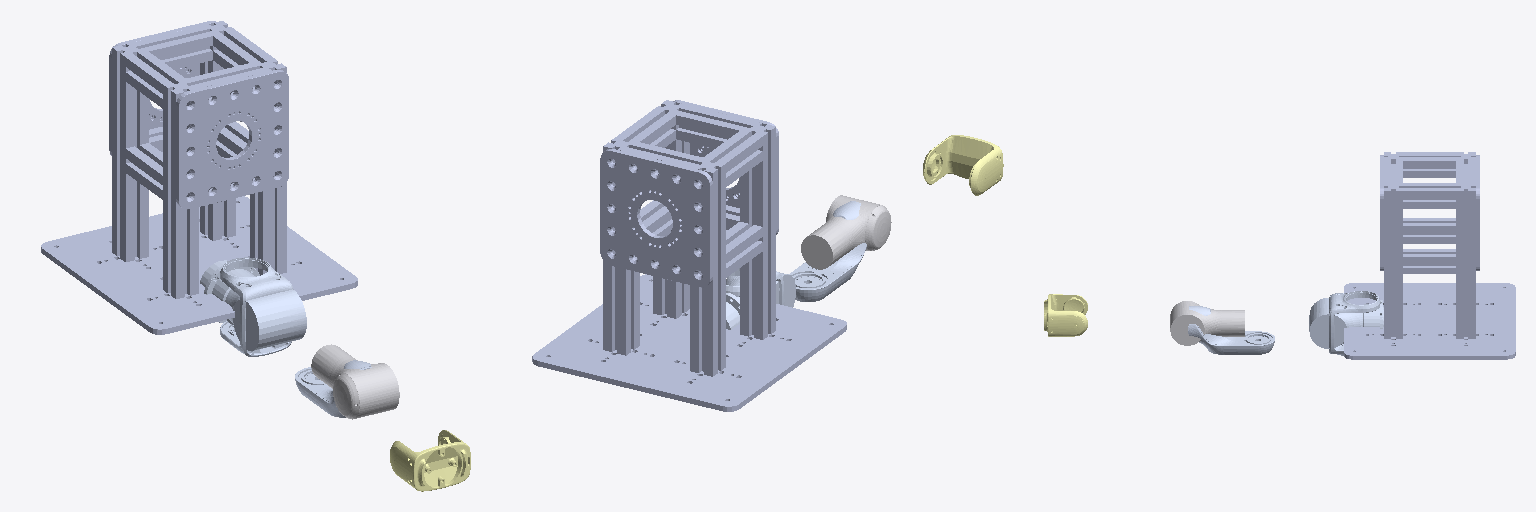
robot.urdf — taihu_arm_0430:
<?xml version="1.0" encoding="utf-8"?>
<!-- This URDF was automatically created by SolidWorks to URDF Exporter! Originally created by Stephen Brawner (brawner@gmail.com) 
     Commit Version: 1.6.0-4-g7f85cfe  Build Version: 1.6.7995.38578
     For more information, please see http://wiki.ros.org/sw_urdf_exporter -->
<robot
  name="taihu_arm_0430">
  <link
    name="base_link">
    <inertial>
      <origin
        xyz="-1.796E-05 6.0012E-06 -0.62307"
        rpy="0 0 0" />
      <mass
        value="8.6788" />
      <inertia
        ixx="0.27993"
        ixy="4.8177E-18"
        ixz="4.8851E-15"
        iyy="0.28183"
        iyz="-1.7321E-14"
        izz="0.043415" />
    </inertial>
    <visual>
      <origin
        xyz="0 0 0"
        rpy="0 0 0" />
      <geometry>
        <mesh
          filename="meshes/base_link.STL" />
      </geometry>
      <material
        name="">
        <color
          rgba="0.79216 0.81961 0.93333 1" />
      </material>
    </visual>
    <collision>
      <origin
        xyz="0 0 0"
        rpy="0 0 0" />
      <geometry>
        <mesh
          filename="meshes/base_link.STL" />
      </geometry>
    </collision>
  </link>




  <link
    name="right-link_arm_base">
    <inertial>
      <origin
        xyz="-4.097E-06 2.2217E-05 0.010632"
        rpy="0 0 0" />
      <mass
        value="1.8275" />
      <inertia
        ixx="0.00066436"
        ixy="5.7569E-08"
        ixz="-8.9382E-08"
        iyy="0.00066638"
        iyz="6.6242E-07"
        izz="0.00074477" />
    </inertial>
    <visual>
      <origin
        xyz="0 0 0"
        rpy="0 0 0" />
      <geometry>
        <mesh
          filename="meshes/right-link_arm_base.STL" />
      </geometry>
      <material
        name="">
        <color
          rgba="0.86667 0.9098 1 1" />
      </material>
    </visual>
    <collision>
      <origin
        xyz="0 0 0"
        rpy="0 0 0" />
      <geometry>
        <mesh
          filename="meshes/right-link_arm_base.STL" />
      </geometry>
    </collision>
  </link>
  <joint
    name="right-joint_arm_base"
    type="fixed">
    <origin
      xyz="0 -0.108 0"
      rpy="1.5708 0 0" />
    <parent
      link="base_link" />
    <child
      link="right-link_arm_base" />
    <axis
      xyz="0 0 0" />
  </joint>
  <link
    name="right-link_arm_1">
    <inertial>
      <origin
        xyz="1.2607E-05 0.001194 0.0088514"
        rpy="0 0 0" />
      <mass
        value="0.71111" />
      <inertia
        ixx="0.00089531"
        ixy="-4.0145E-07"
        ixz="2.0276E-07"
        iyy="0.00095129"
        iyz="-9.0856E-05"
        izz="0.00077837" />
    </inertial>
    <visual>
      <origin
        xyz="0 0 0"
        rpy="0 0 0" />
      <geometry>
        <mesh
          filename="meshes/right-link_arm_1.STL" />
      </geometry>
      <material
        name="">
        <color
          rgba="0.86667 0.9098 1 1" />
      </material>
    </visual>
    <collision>
      <origin
        xyz="0 0 0"
        rpy="0 0 0" />
      <geometry>
        <mesh
          filename="meshes/right-link_arm_1.STL" />
      </geometry>
    </collision>
  </link>
  <joint
    name="right-joint_arm_1"
    type="revolute">
    <origin
      xyz="0 0 0.128"
      rpy="3.1416 0 1.5708" />
    <parent
      link="right-link_arm_base" />
    <child
      link="right-link_arm_1" />
    <axis
      xyz="0 0 1" />
    <limit
      lower="-3.1"
      upper="3.1"
      effort="100"
      velocity="1" />
  </joint>
  <link
    name="right-link_arm_2">
    <inertial>
      <origin
        xyz="1.2945E-05 0.088857 -0.024165"
        rpy="0 0 0" />
      <mass
        value="2.2852" />
      <inertia
        ixx="0.0021126"
        ixy="3.9651E-07"
        ixz="7.5798E-08"
        iyy="0.00051326"
        iyz="-0.00045294"
        izz="0.0021734" />
    </inertial>
    <visual>
      <origin
        xyz="0 0 0"
        rpy="0 0 0" />
      <geometry>
        <mesh
          filename="meshes/right-link_arm_2.STL" />
      </geometry>
      <material
        name="">
        <color
          rgba="0.86667 0.9098 1 1" />
      </material>
    </visual>
    <collision>
      <origin
        xyz="0 0 0"
        rpy="0 0 0" />
      <geometry>
        <mesh
          filename="meshes/right-link_arm_2.STL" />
      </geometry>
    </collision>
  </link>
  <joint
    name="right-joint_arm_2"
    type="revolute">
    <origin
      xyz="0 0 0"
      rpy="-1.5708 0 0" />
    <parent
      link="right-link_arm_1" />
    <child
      link="right-link_arm_2" />
    <axis
      xyz="0 0 1" />
    <limit
      lower="-2.007"
      upper="2.007"
      effort="100"
      velocity="1" />
  </joint>
  <link
    name="right-link_arm_3">
    <inertial>
      <origin
        xyz="0.00035321 0.0021391 0.036651"
        rpy="0 0 0" />
      <mass
        value="0.47387" />
      <inertia
        ixx="0.0011486"
        ixy="-4.7435E-07"
        ixz="7.8389E-07"
        iyy="0.0010776"
        iyz="-4.5978E-05"
        izz="0.00024811" />
    </inertial>
    <visual>
      <origin
        xyz="0 0 0"
        rpy="0 0 0" />
      <geometry>
        <mesh
          filename="meshes/right-link_arm_3.STL" />
      </geometry>
      <material
        name="">
        <color
          rgba="0.86667 0.9098 1 1" />
      </material>
    </visual>
    <collision>
      <origin
        xyz="0 0 0"
        rpy="0 0 0" />
      <geometry>
        <mesh
          filename="meshes/right-link_arm_3.STL" />
      </geometry>
    </collision>
  </link>
  <joint
    name="right-joint_arm_3"
    type="revolute">
    <origin
      xyz="0 0.329 0"
      rpy="1.5708 0 0" />
    <parent
      link="right-link_arm_2" />
    <child
      link="right-link_arm_3" />
    <axis
      xyz="0 0 1" />
    <limit
      lower="-3.1"
      upper="3.1"
      effort="100"
      velocity="1" />
  </joint>
  <link
    name="right-link_arm_4">
    <inertial>
      <origin
        xyz="9.9096E-06 0.094944 -0.019826"
        rpy="0 0 0" />
      <mass
        value="1.38429" />
      <inertia
        ixx="0.0014918"
        ixy="4.3233E-07"
        ixz="2.0932E-08"
        iyy="0.00034865"
        iyz="-0.00031052"
        izz="0.0014896" />
    </inertial>
    <visual>
      <origin
        xyz="0 0 0"
        rpy="0 0 0" />
      <geometry>
        <mesh
          filename="meshes/right-link_arm_4.STL" />
      </geometry>
      <material
        name="">
        <color
          rgba="0.8902 0.8902 0.91373 1" />
      </material>
    </visual>
    <collision>
      <origin
        xyz="0 0 0"
        rpy="0 0 0" />
      <geometry>
        <mesh
          filename="meshes/right-link_arm_4.STL" />
      </geometry>
    </collision>
  </link>
  <joint
    name="right-joint_arm_4"
    type="revolute">
    <origin
      xyz="0 0 0"
      rpy="-1.5708 0 0" />
    <parent
      link="right-link_arm_3" />
    <child
      link="right-link_arm_4" />
    <axis
      xyz="0 0 1" />
    <limit
      lower="-2.53"
      upper="2.05"
      effort="100"
      velocity="1" />
  </joint>
  <link
    name="right-link_arm_5">
    <inertial>
      <origin
        xyz="-0.00086549 -0.0031856 0.058912"
        rpy="0 0 0" />
      <mass
        value="0.3908" />
      <inertia
        ixx="3.6595E-05"
        ixy="-3.188E-08"
        ixz="6.8934E-09"
        iyy="4.7486E-05"
        iyz="2.0611E-06"
        izz="4.2498E-05" />
    </inertial>
    <visual>
      <origin
        xyz="0 0 0"
        rpy="0 0 0" />
      <geometry>
        <mesh
          filename="meshes/right-link_arm_5.STL" />
      </geometry>
      <material
        name="">
        <color
          rgba="1 1 1 1" />
      </material>
    </visual>
    <collision>
      <origin
        xyz="0 0 0"
        rpy="0 0 0" />
      <geometry>
        <mesh
          filename="meshes/right-link_arm_5.STL" />
      </geometry>
    </collision>
  </link>
  <joint
    name="right-joint_arm_5"
    type="revolute">
    <origin
      xyz="0 0.2645 0"
      rpy="1.5708 -1.5708 0" />
    <parent
      link="right-link_arm_4" />
    <child
      link="right-link_arm_5" />
    <axis
      xyz="0 0 1" />
    <limit
      lower="-3.1"
      upper="3.1"
      effort="100"
      velocity="1" />
  </joint>
  <link
    name="right-link_arm_6">
    <inertial>
      <origin
        xyz="6.7734E-05 0.010876 0.00026971"
        rpy="0 0 0" />
      <mass
        value="0.298376" />
      <inertia
        ixx="3.084E-05"
        ixy="-9.6591E-08"
        ixz="1.6252E-08"
        iyy="2.8341E-05"
        iyz="-1.8061E-07"
        izz="3.049E-05" />
    </inertial>
    <visual>
      <origin
        xyz="0 0 0"
        rpy="0 0 0" />
      <geometry>
        <mesh
          filename="meshes/right-link_arm_6.STL" />
      </geometry>
      <material
        name="">
        <color
          rgba="0.79216 0.81961 0.93333 1" />
      </material>
    </visual>
    <collision>
      <origin
        xyz="0 0 0"
        rpy="0 0 0" />
      <geometry>
        <mesh
          filename="meshes/right-link_arm_6.STL" />
      </geometry>
    </collision>
  </link>
  <joint
    name="right-joint_arm_6"
    type="revolute">
    <origin
      xyz="0 0 0"
      rpy="1.5708 1.5708 3.1416" />
    <parent
      link="right-link_arm_5" />
    <child
      link="right-link_arm_6" />
    <axis
      xyz="0 0 -1" />
    <limit
      lower="-0.69"
      upper="0.69"
      effort="100"
      velocity="1" />
  </joint>
  <link
    name="right-link_arm_7">
    <inertial>
      <origin
        xyz="-1.6729E-06 0.010082 0.013139"
        rpy="0 0 0" />
      <mass
        value="0.027272" />
      <inertia
        ixx="1.1686E-05"
        ixy="-5.5819E-10"
        ixz="-2.5012E-11"
        iyy="8.5763E-06"
        iyz="3.4659E-06"
        izz="1.1784E-05" />
    </inertial>
    <visual>
      <origin
        xyz="0 0 0"
        rpy="0 0 0" />
      <geometry>
        <mesh
          filename="meshes/right-link_arm_7.STL" />
      </geometry>
      <material
        name="">
        <color
          rgba="1 1 0.75294 1" />
      </material>
    </visual>
    <collision>
      <origin
        xyz="0 0 0"
        rpy="0 0 0" />
      <geometry>
        <mesh
          filename="meshes/right-link_arm_7.STL" />
      </geometry>
    </collision>
  </link>
  <joint
    name="right-joint_arm_7"
    type="revolute">
    <origin
      xyz="0 0 0"
      rpy="-1.5708 1.5708 3.1416" />
    <parent
      link="right-link_arm_6" />
    <child
      link="right-link_arm_7" />
    <axis
      xyz="0 0 1" />
    <limit
      lower="-1.39"
      upper="1.39"
      effort="100"
      velocity="1" />
  </joint>
  <link
    name="right-link_gripper_base">
    <inertial>
      <origin
        xyz="-0.0044643 -4.9691E-05 0.09294"
        rpy="0 0 0" />
      <mass
        value="0.85687" />
      <inertia
        ixx="9.5509E-05"
        ixy="2.7675E-06"
        ixz="-1.1885E-06"
        iyy="0.00023884"
        iyz="4.2888E-07"
        izz="0.00023197" />
    </inertial>
    <visual>
      <origin
        xyz="0 0 0"
        rpy="0 0 0" />
      <geometry>
        <mesh
          filename="meshes/right-link_gripper_base.STL" />
      </geometry>
      <material
        name="">
        <color
          rgba="0.79216 0.81961 0.93333 1" />
      </material>
    </visual>
    <collision>
      <origin
        xyz="0 0 0"
        rpy="0 0 0" />
      <geometry>
        <mesh
          filename="meshes/right-link_gripper_base.STL" />
      </geometry>
    </collision>
  </link>
  <joint
    name="right-joint_gripper_base"
    type="fixed">
    <origin
      xyz="0 0 0"
      rpy="-1.5708 -1.5708 0" />
    <parent
      link="right-link_arm_7" />
    <child
      link="right-link_gripper_base" />
    <axis
      xyz="0 0 0" />
  </joint>
</robot>

--- Render facts (derived) ---
3 views of the same robot in one strip: view 1: azimuth 30°, elevation 25°; view 2: azimuth 150°, elevation 25°; view 3: azimuth 270°, elevation 25° (orthographic).
Model taihu_arm_0430 with 10 links and 9 joints (7 revolute, 2 fixed), rooted at base_link, posed every joint at zero.
Visible links, largest first — view 1: base_link, right-link_arm_4, right-link_arm_2, right-link_arm_7, right-link_arm_1, right-link_arm_3, right-link_arm_base; view 2: base_link, right-link_arm_4, right-link_arm_7, right-link_arm_3, right-link_arm_2; view 3: base_link, right-link_arm_4, right-link_arm_7, right-link_arm_3, right-link_arm_2, right-link_arm_1.
Link boxes in pixels (x1,y1,x2,y2): base_link: (41, 21, 357, 334); right-link_arm_4: (311, 344, 399, 419); right-link_arm_2: (200, 260, 306, 350); right-link_arm_7: (390, 430, 470, 491); right-link_arm_1: (220, 257, 293, 356); right-link_arm_3: (295, 360, 371, 417); right-link_arm_base: (204, 266, 259, 324); base_link: (532, 100, 846, 411); right-link_arm_4: (801, 195, 891, 269); right-link_arm_7: (923, 135, 1003, 195); right-link_arm_3: (788, 201, 866, 301); right-link_arm_2: (726, 272, 795, 329); base_link: (1344, 152, 1515, 359); right-link_arm_4: (1170, 301, 1244, 345); right-link_arm_7: (1044, 294, 1087, 336); right-link_arm_3: (1188, 306, 1274, 354); right-link_arm_2: (1309, 298, 1383, 348); right-link_arm_1: (1329, 291, 1380, 355).
Size in the robot's own frame: 0.4 by 1.1 by 0.4605 metres.
Meshes: 10 distinct files referenced, 7 mesh visuals loaded (7 binary STL); not drawn: 3 (reference not matched to a file when rendering).
